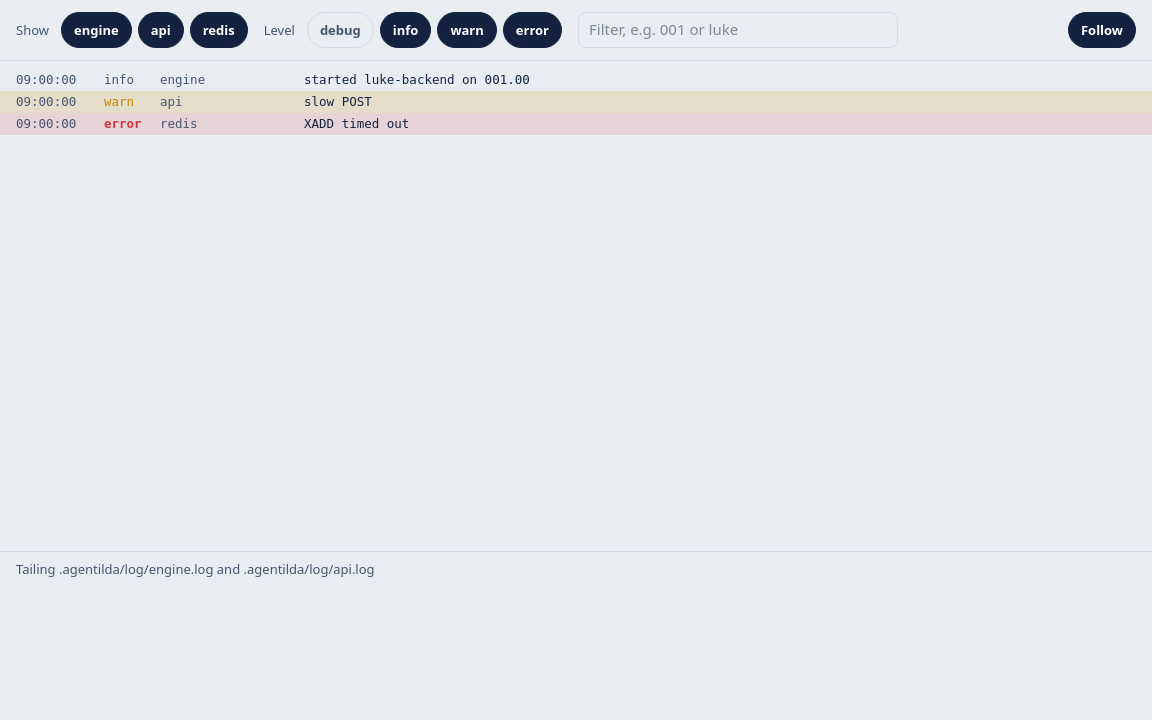
Scenario: filters by source, level and text
The width and height of the screenshot is (1152, 720).
Click the button "api" at {"x": 161, "y": 30}, box x1=138 y1=12 x2=184 y2=48
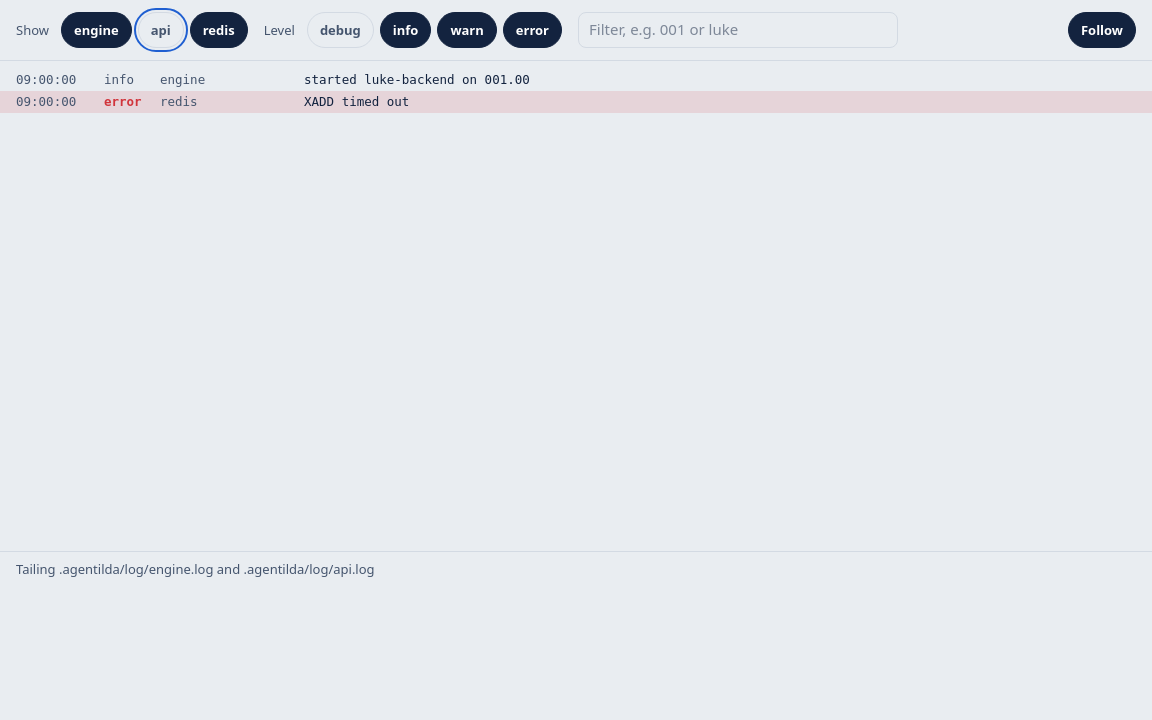
Click the button "debug" at {"x": 340, "y": 30}, box x1=307 y1=12 x2=374 y2=48
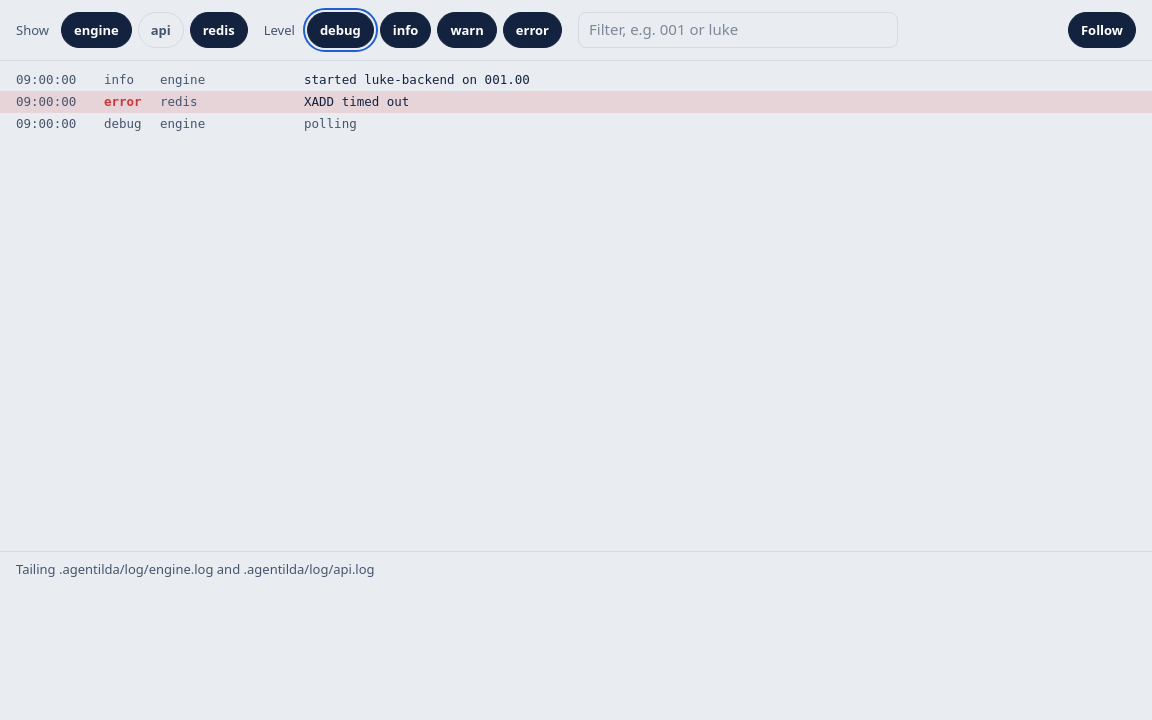
Expected: the text "slow POST" is not shown
Result: the text "polling" is shown at x1=304 y1=116 x2=357 y2=131
Click the button "api" at {"x": 161, "y": 30}, box x1=138 y1=12 x2=184 y2=48
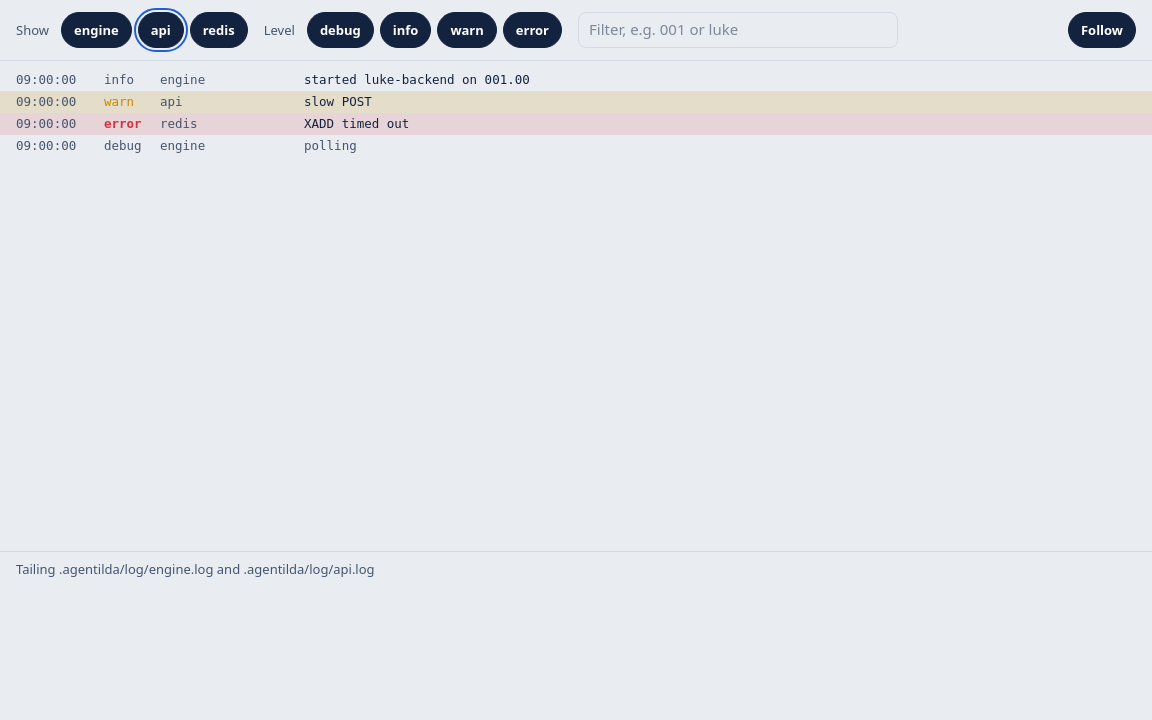
Type "LUKE" into the search field named "Filter log lines" at {"x": 738, "y": 30}, box x1=578 y1=12 x2=898 y2=48
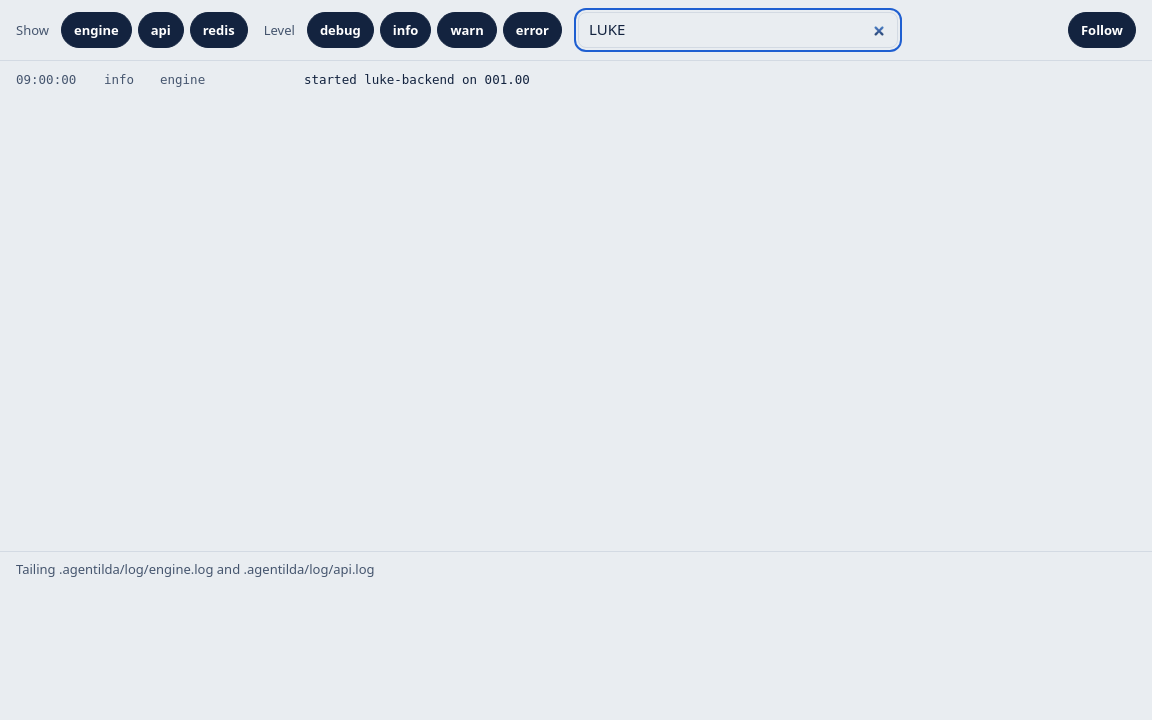
Expected: the number of list items is 1, x1=16 y1=72 x2=530 y2=87
Replace the text in the search field named "Filter log lines" with "nothing like this" at {"x": 738, "y": 30}, box x1=578 y1=12 x2=898 y2=48
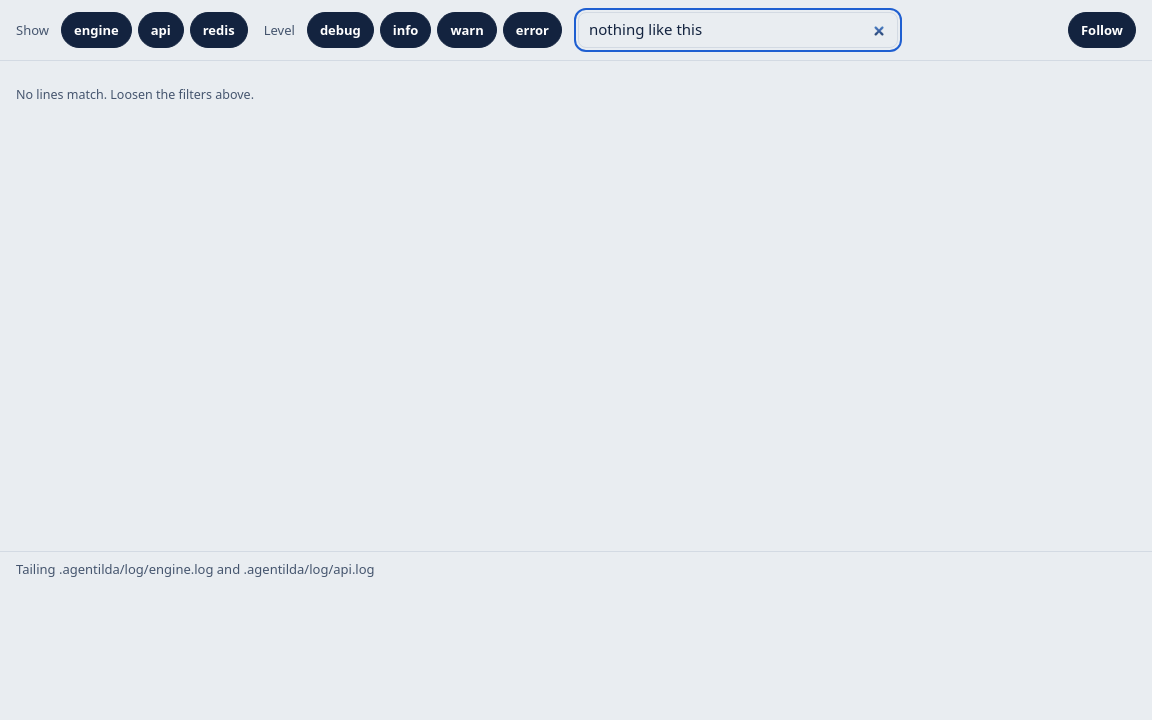
Result: the list item "No lines match. Loosen the filters above." is shown at x1=16 y1=86 x2=254 y2=103
